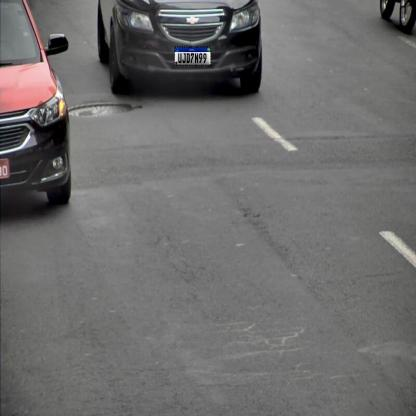PlacaM: (174, 46, 211, 66)
